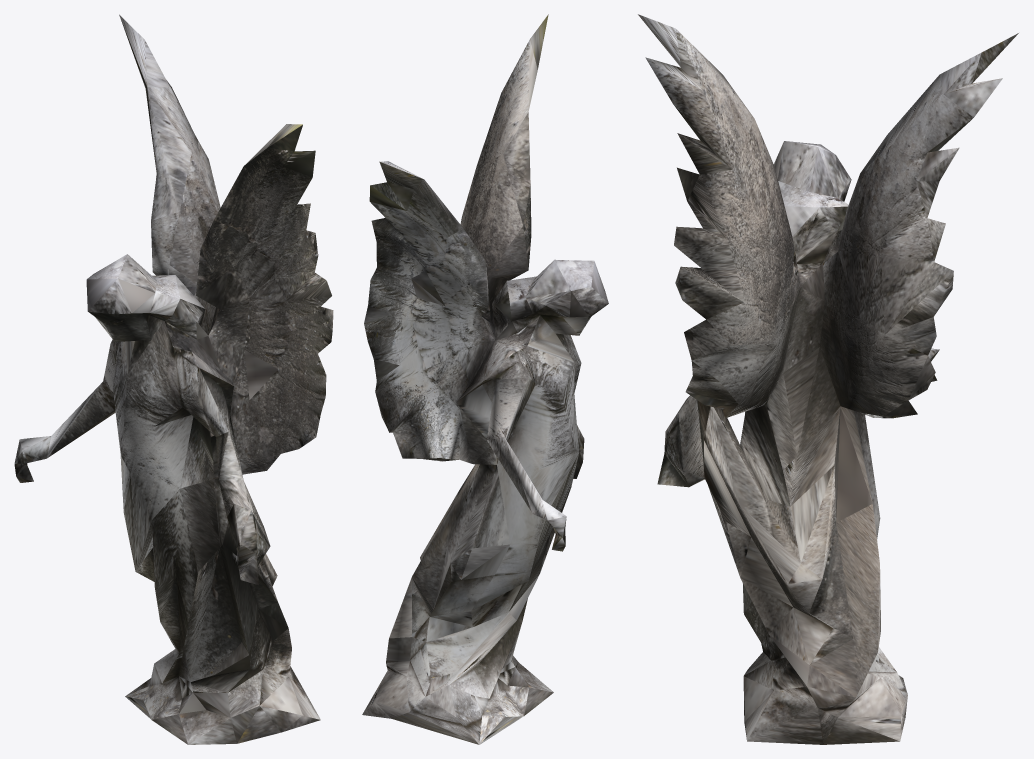
Rendered from engel_lod2.fbx.
3 renders of one model, left to right at view 1: azimuth 30°, elevation 25°; view 2: azimuth 150°, elevation 25°; view 3: azimuth 270°, elevation 25°, orthographic. The views are drawn at different scales.
Parts seen in each view (by area): view 1: Engel-LOD2; view 2: Engel-LOD2; view 3: Engel-LOD2.
Boxes of the visible parts, x1,y1,x2,y2 form: Engel-LOD2: (14, 14, 333, 744); Engel-LOD2: (362, 14, 608, 744); Engel-LOD2: (638, 14, 1018, 744).
Size of the model in its own units: 160 by 447 by 222.
Materials: 2 (1 with a texture image).
